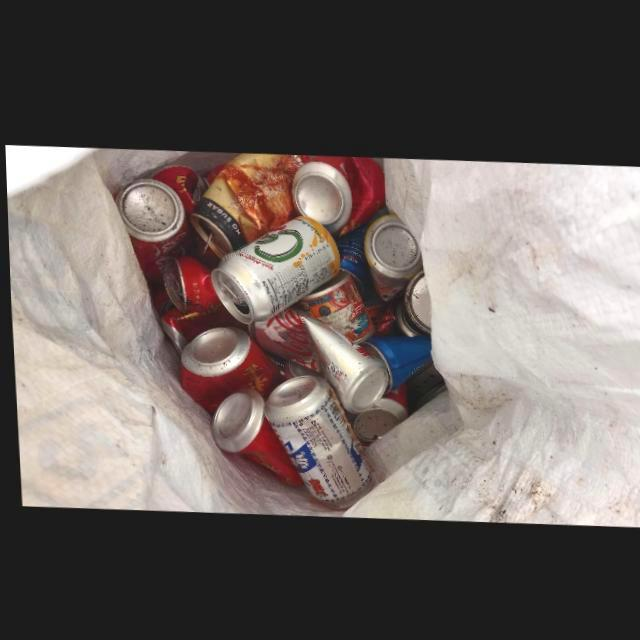aluminum: (245, 305, 386, 410), (260, 372, 369, 504), (209, 212, 339, 321), (187, 151, 302, 254), (208, 386, 300, 483), (177, 324, 277, 411), (289, 152, 384, 233), (113, 177, 185, 283), (295, 266, 370, 341), (362, 210, 421, 297), (160, 253, 218, 311)
